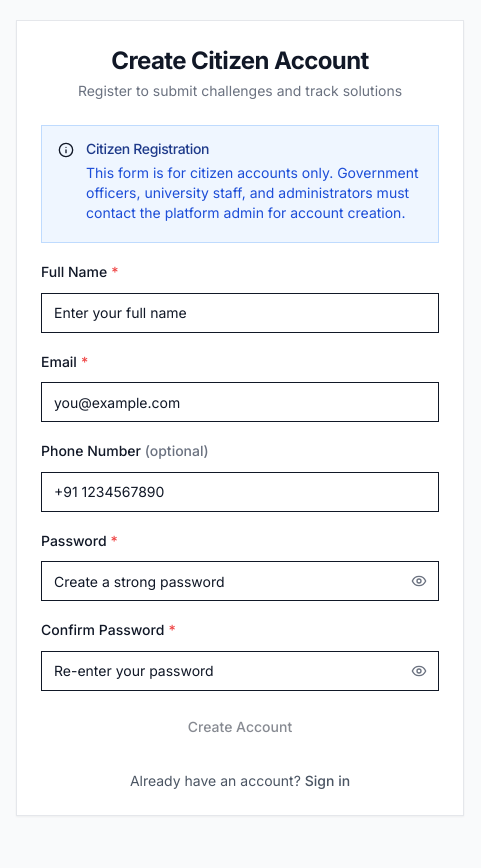
Scenario: RegisterPage › Client-side Validation › should validate email format
The width and height of the screenshot is (481, 868).
Type "invalid-email" into the field labelled "Email*" at [240, 402], box [41,382,439,422]
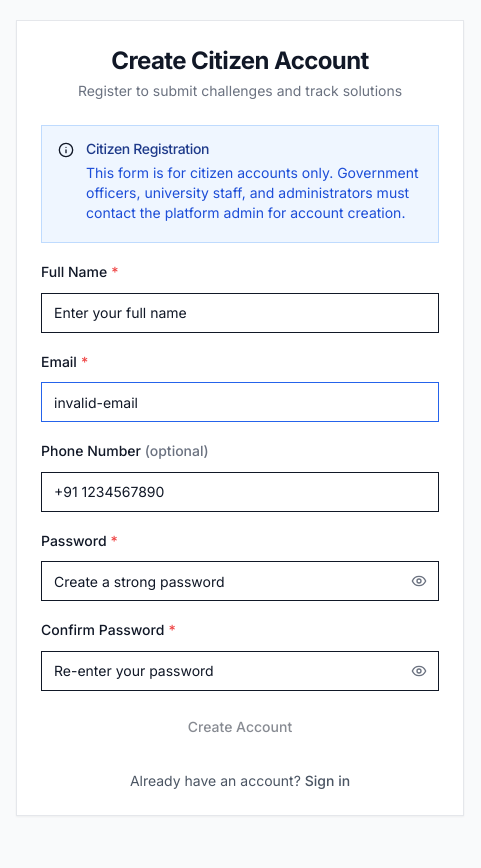
Type "Password123!" into the password field with placeholder "Create a strong password" at [240, 581], box [41,561,439,601]
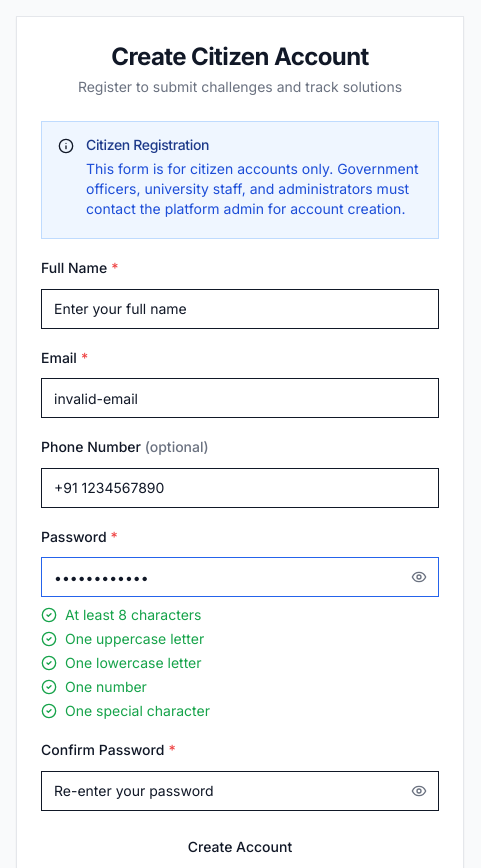
Click the button "Create Account" at [240, 847], box [41,827,439,867]
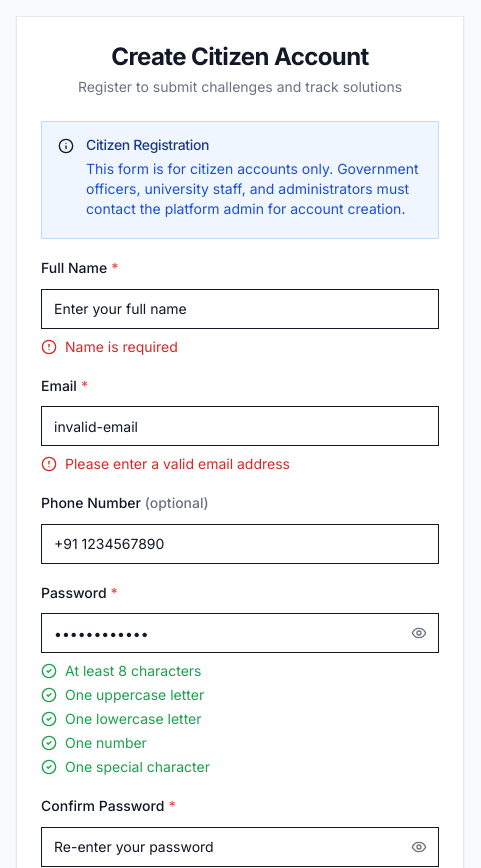
Check: the text "Please enter a valid email address" is shown, box [65,454,290,474]
